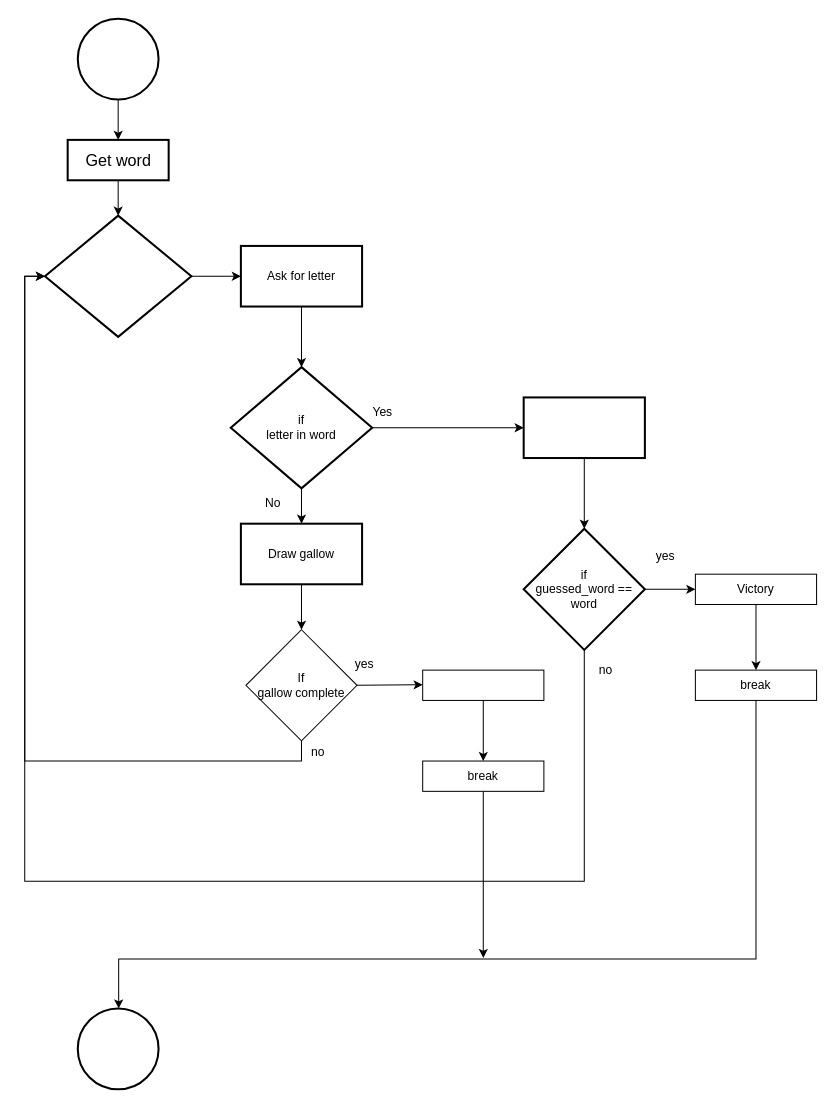
Image size: 834x1107. Some labels were removed from this diagram. The box of each missing label's shape, as (x1, y1, x2, y2) in pixels:
End: (76, 1007, 159, 1090)
fill guessed_word: (522, 396, 645, 459)
Game Over: (422, 669, 544, 700)
Start: (76, 17, 159, 100)
while True: (43, 214, 192, 337)
